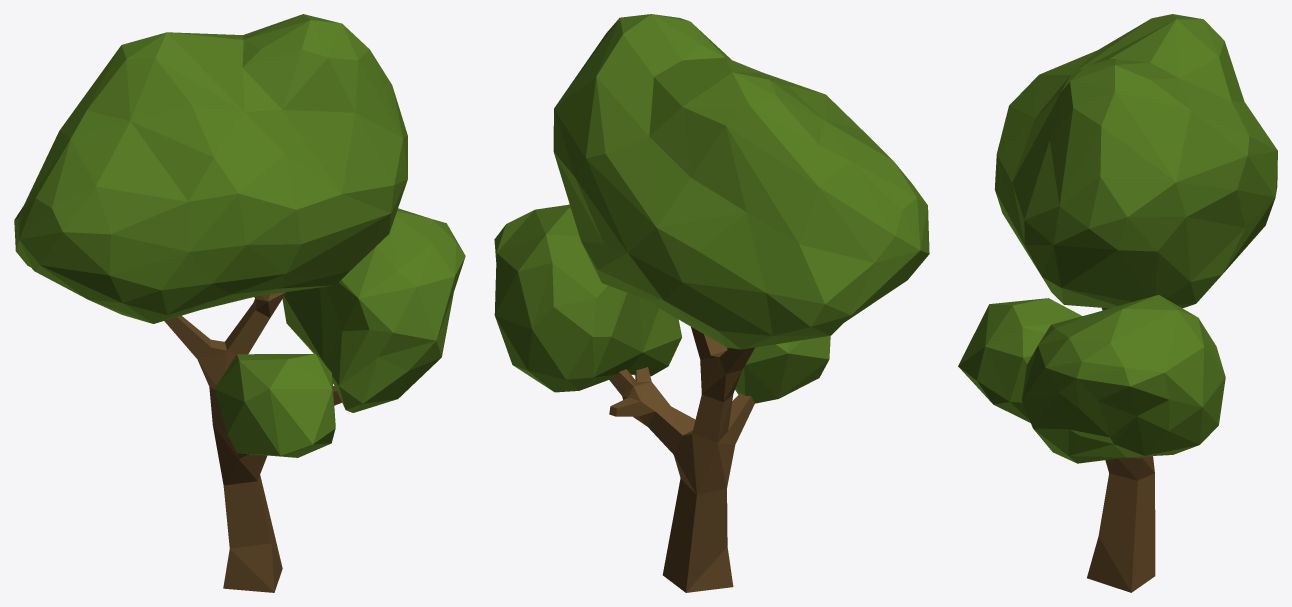
File: tree.gltf
3 renders of one model, left to right at view 1: azimuth 30°, elevation 25°; view 2: azimuth 150°, elevation 25°; view 3: azimuth 270°, elevation 25°, orthographic. The views are drawn at different scales.
Visible parts, largest first — view 1: Tree1_1; view 2: Tree1_1; view 3: Tree1_1.
Part boxes in pixels (left/top/right/bottom): Tree1_1: left=14, top=14, right=465, bottom=592; Tree1_1: left=494, top=14, right=929, bottom=592; Tree1_1: left=958, top=14, right=1277, bottom=592.
Bounding box in the file's own units: 6 × 7.34 × 3.96.
